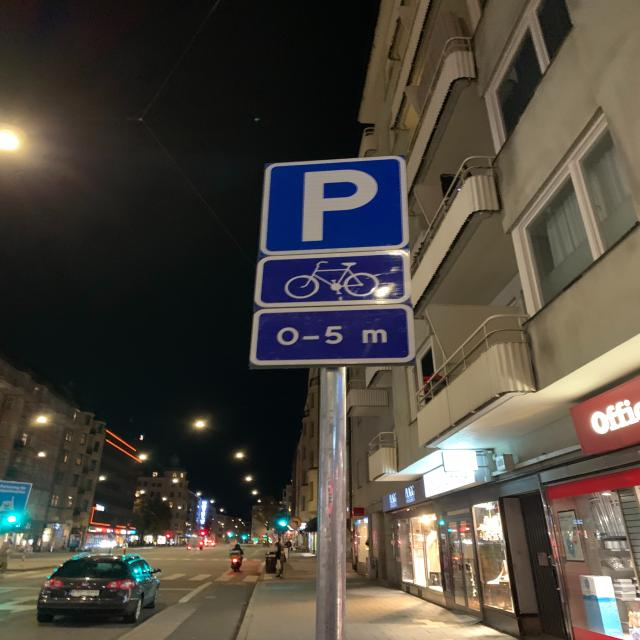psign: (260, 158, 410, 252)
